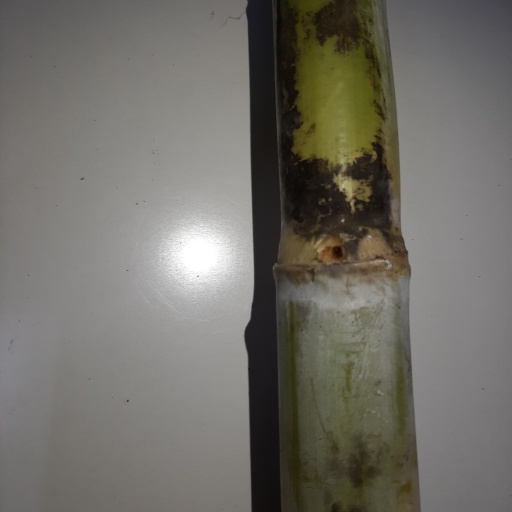Damage_Bud: (316, 234, 344, 263)
